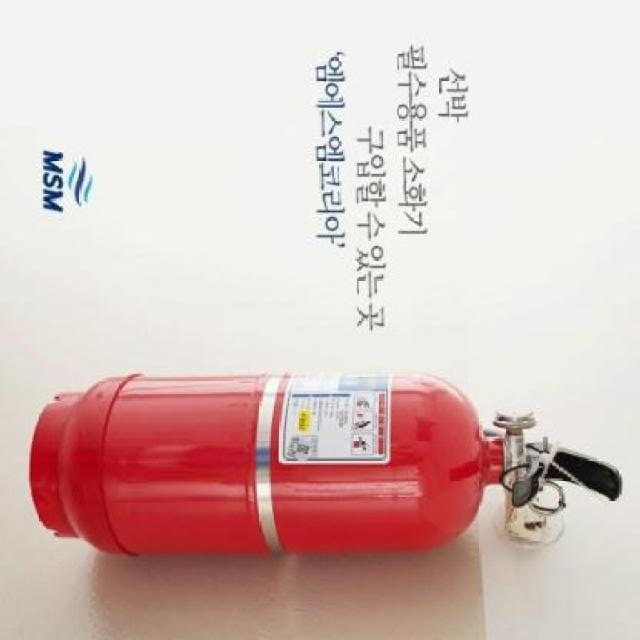fire extinguisher: (28, 373, 624, 555)
